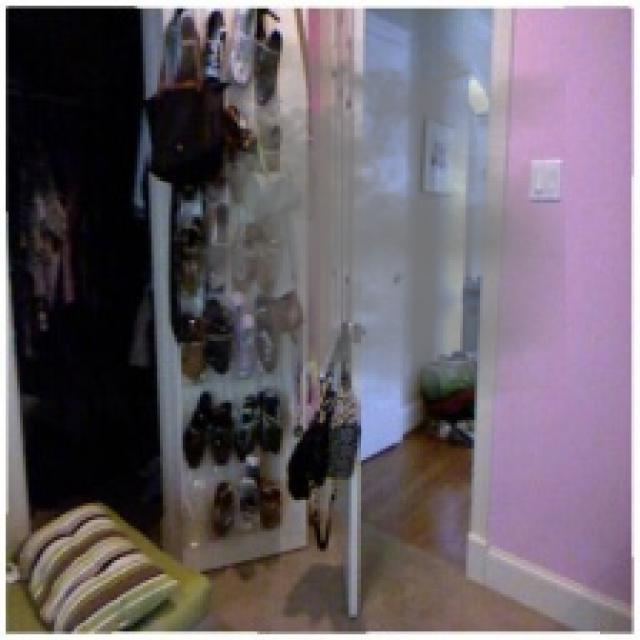Smoke: (174, 37, 566, 400)
